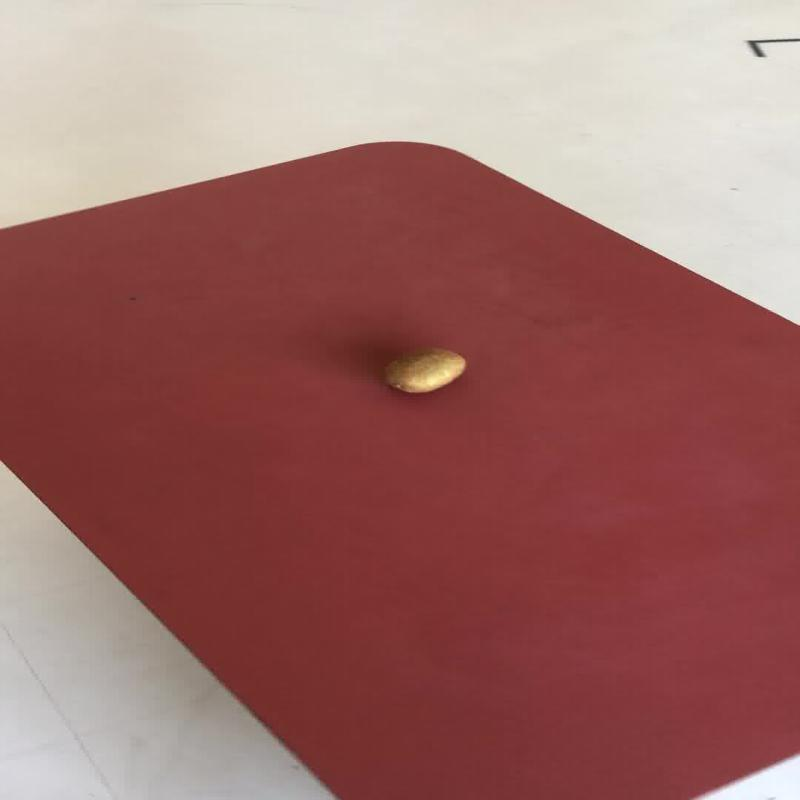kiwi: (381, 346, 466, 393)
